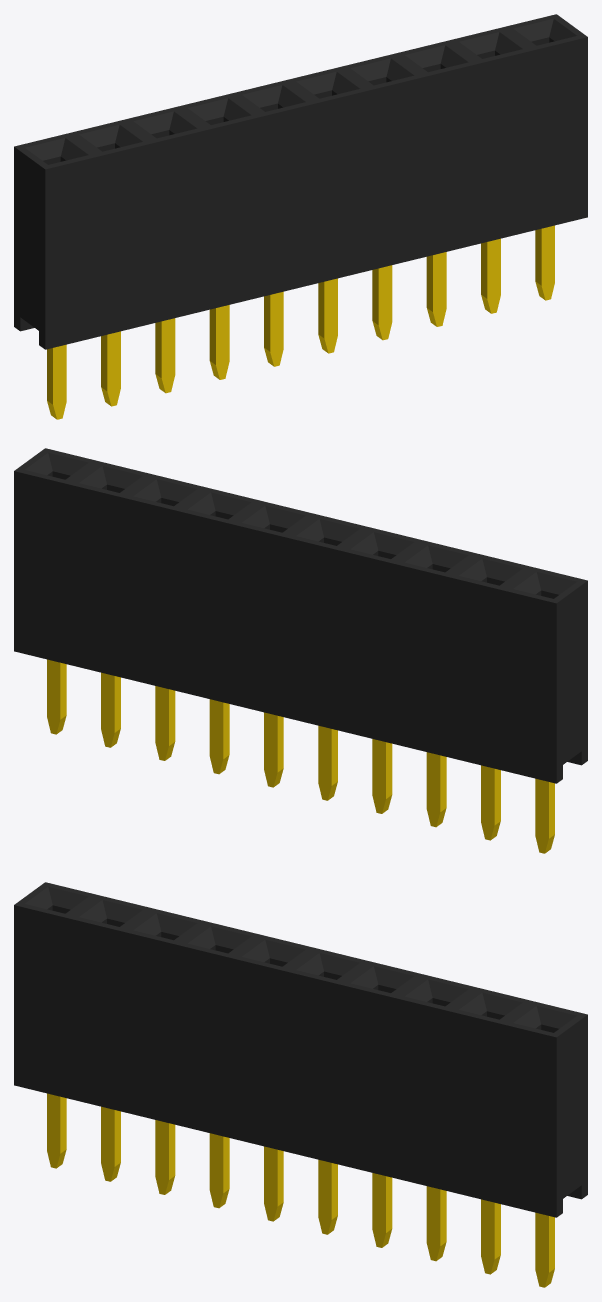
The model's file is PBS2-10.glb.
3 views of the same model, one above another, from view 1: azimuth 30°, elevation 25°; view 2: azimuth 150°, elevation 25°; view 3: azimuth 330°, elevation 25° (orthographic).
Parts seen in each view (by area): view 1: PBS2 (DS1026-20 CONNFLY); view 2: PBS2 (DS1026-20 CONNFLY); view 3: PBS2 (DS1026-20 CONNFLY).
Boxes of the visible parts, left/top/right/bottom form: PBS2 (DS1026-20 CONNFLY): left=14, top=14, right=587, bottom=419; PBS2 (DS1026-20 CONNFLY): left=14, top=448, right=587, bottom=853; PBS2 (DS1026-20 CONNFLY): left=14, top=882, right=587, bottom=1287.
Size of the model in its own units: 0.02 by 0.00935 by 0.002.
